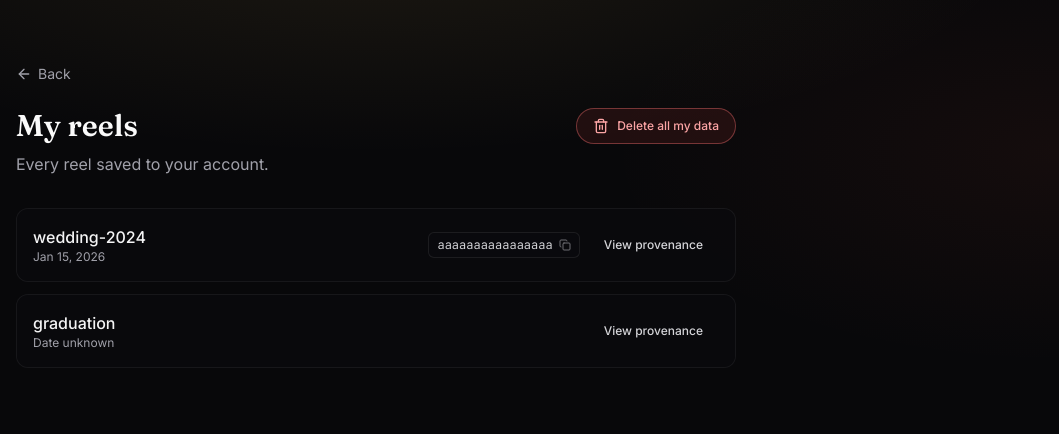
<MyReels /> — list › shows an honest error line when the manifest fetch itself fails
The image size is (1059, 434).
Expected: the text "graduation" is shown, [33,311,116,335]
Click the button "View provenance" in the row of "graduation" at (653, 331), box [588,313,719,349]
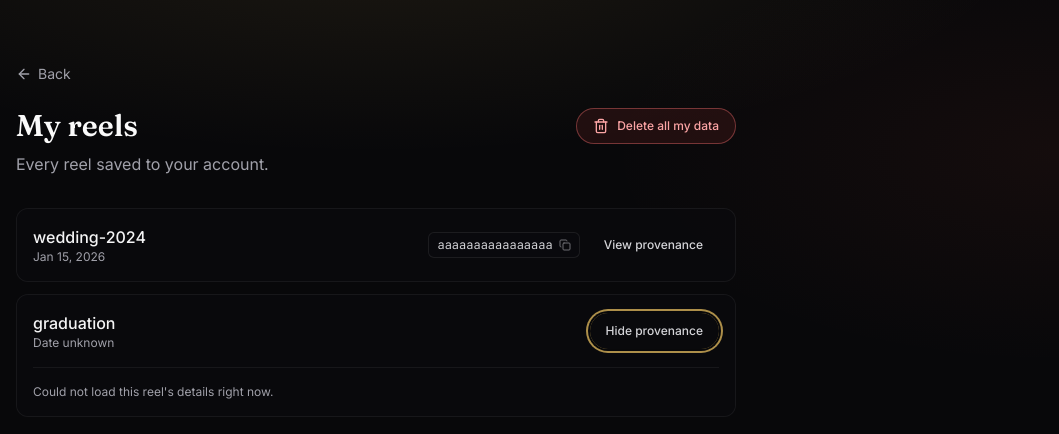
Expected: the text "Could not load this reel's details right now." is shown, [33,384,274,399]
